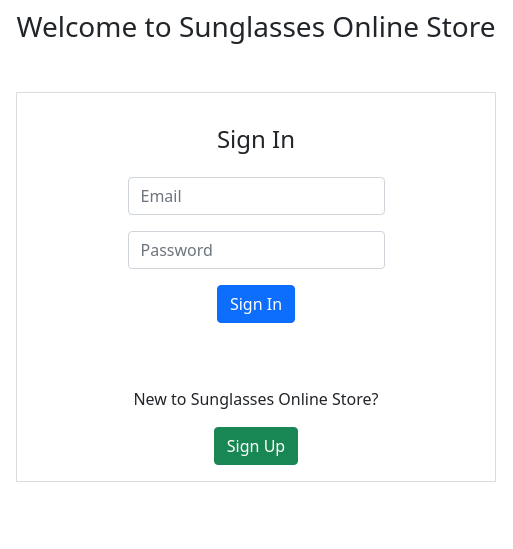
Test: Testing SignIn component › It should display "Enter your email address" and "Enter your password"
This screenshot has width=513, height=549.
# clicking the sign in button
Step 1. Click the button "Sign In" → (256, 304), box [217,285,295,323]
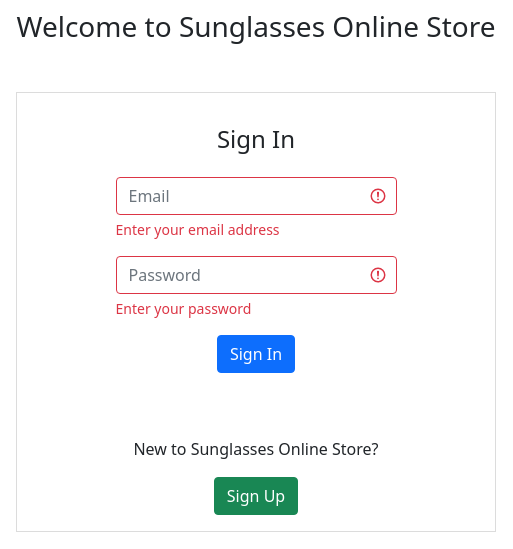
Expected: the text "Enter your email address" is shown, [116,220,280,239]
Expected: the text "Enter your password" is shown, [116,299,252,318]
